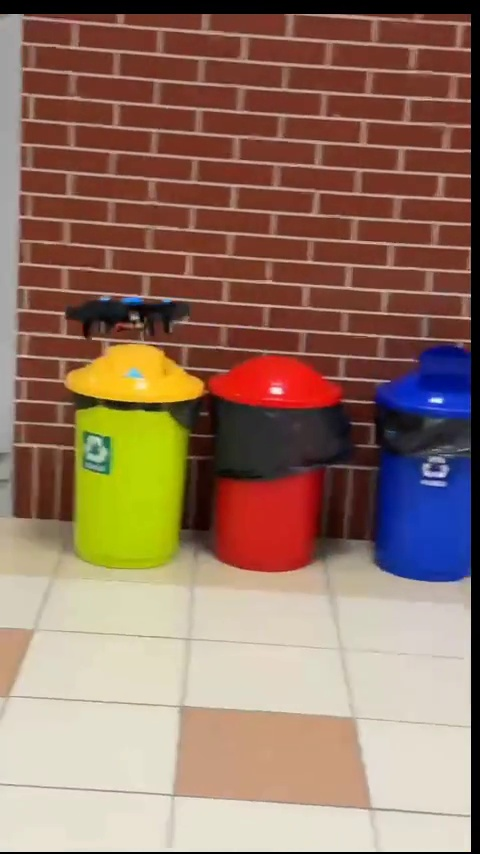drone: (62, 296, 187, 337)
